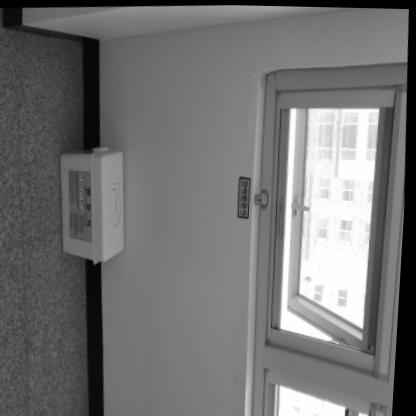DDL: (58, 148, 131, 263)
